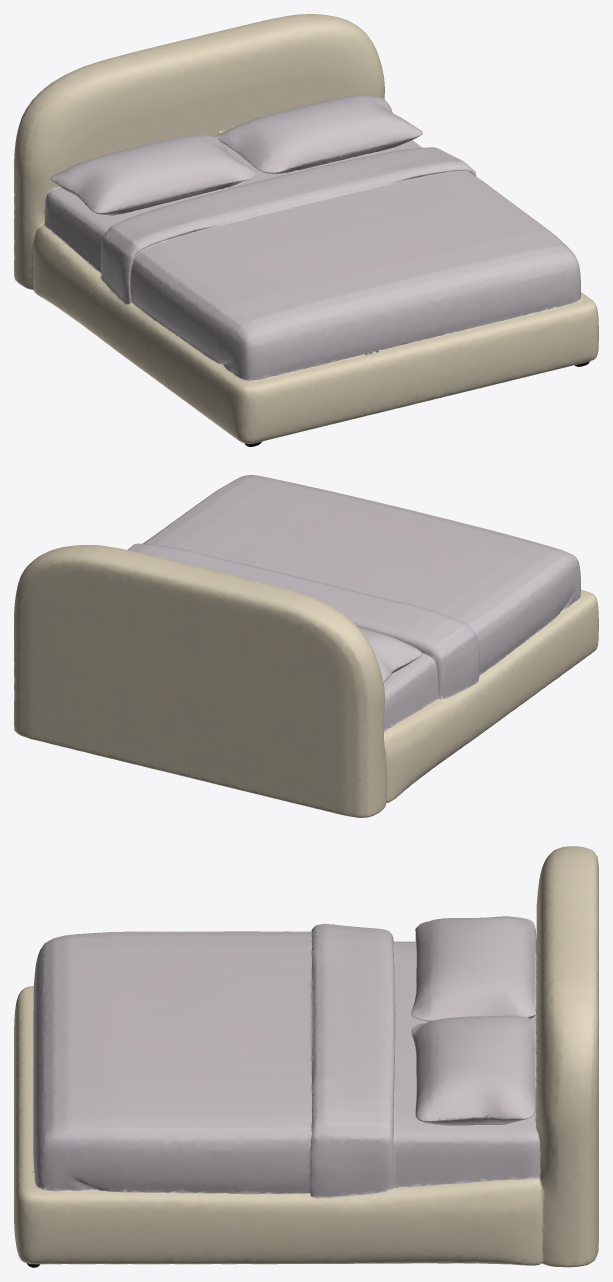
File: bed.glb
The picture shows the model from 3 angles, top to bottom: view 1: azimuth 30°, elevation 25°; view 2: azimuth 150°, elevation 25°; view 3: azimuth 270°, elevation 25°; orthographic projection. The views are drawn at different scales.
Visible parts, largest first — view 1: world; view 2: world; view 3: world.
Part boxes in pixels (x1,y1,x2,y2): world: [14, 14, 598, 446]; world: [14, 475, 598, 817]; world: [14, 846, 598, 1267].
Bounding box in the file's own units: 0.886 × 0.473 × 1.
1 material, 1 textured.
